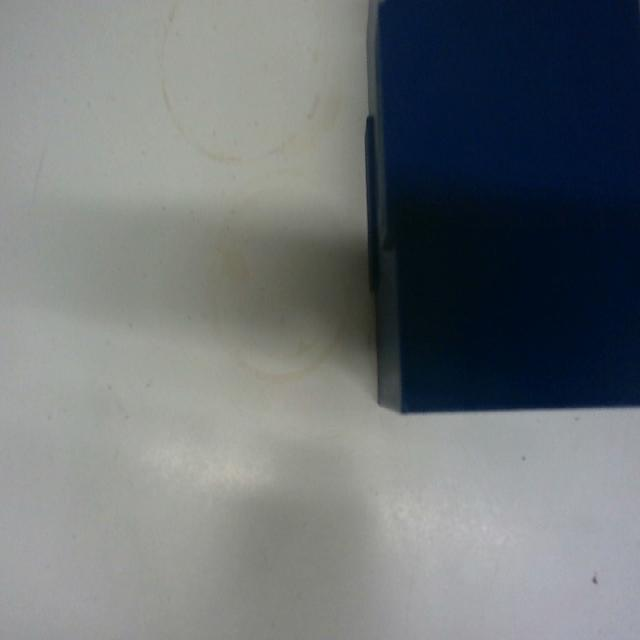Blue Cuboid: (362, 0, 639, 415)
